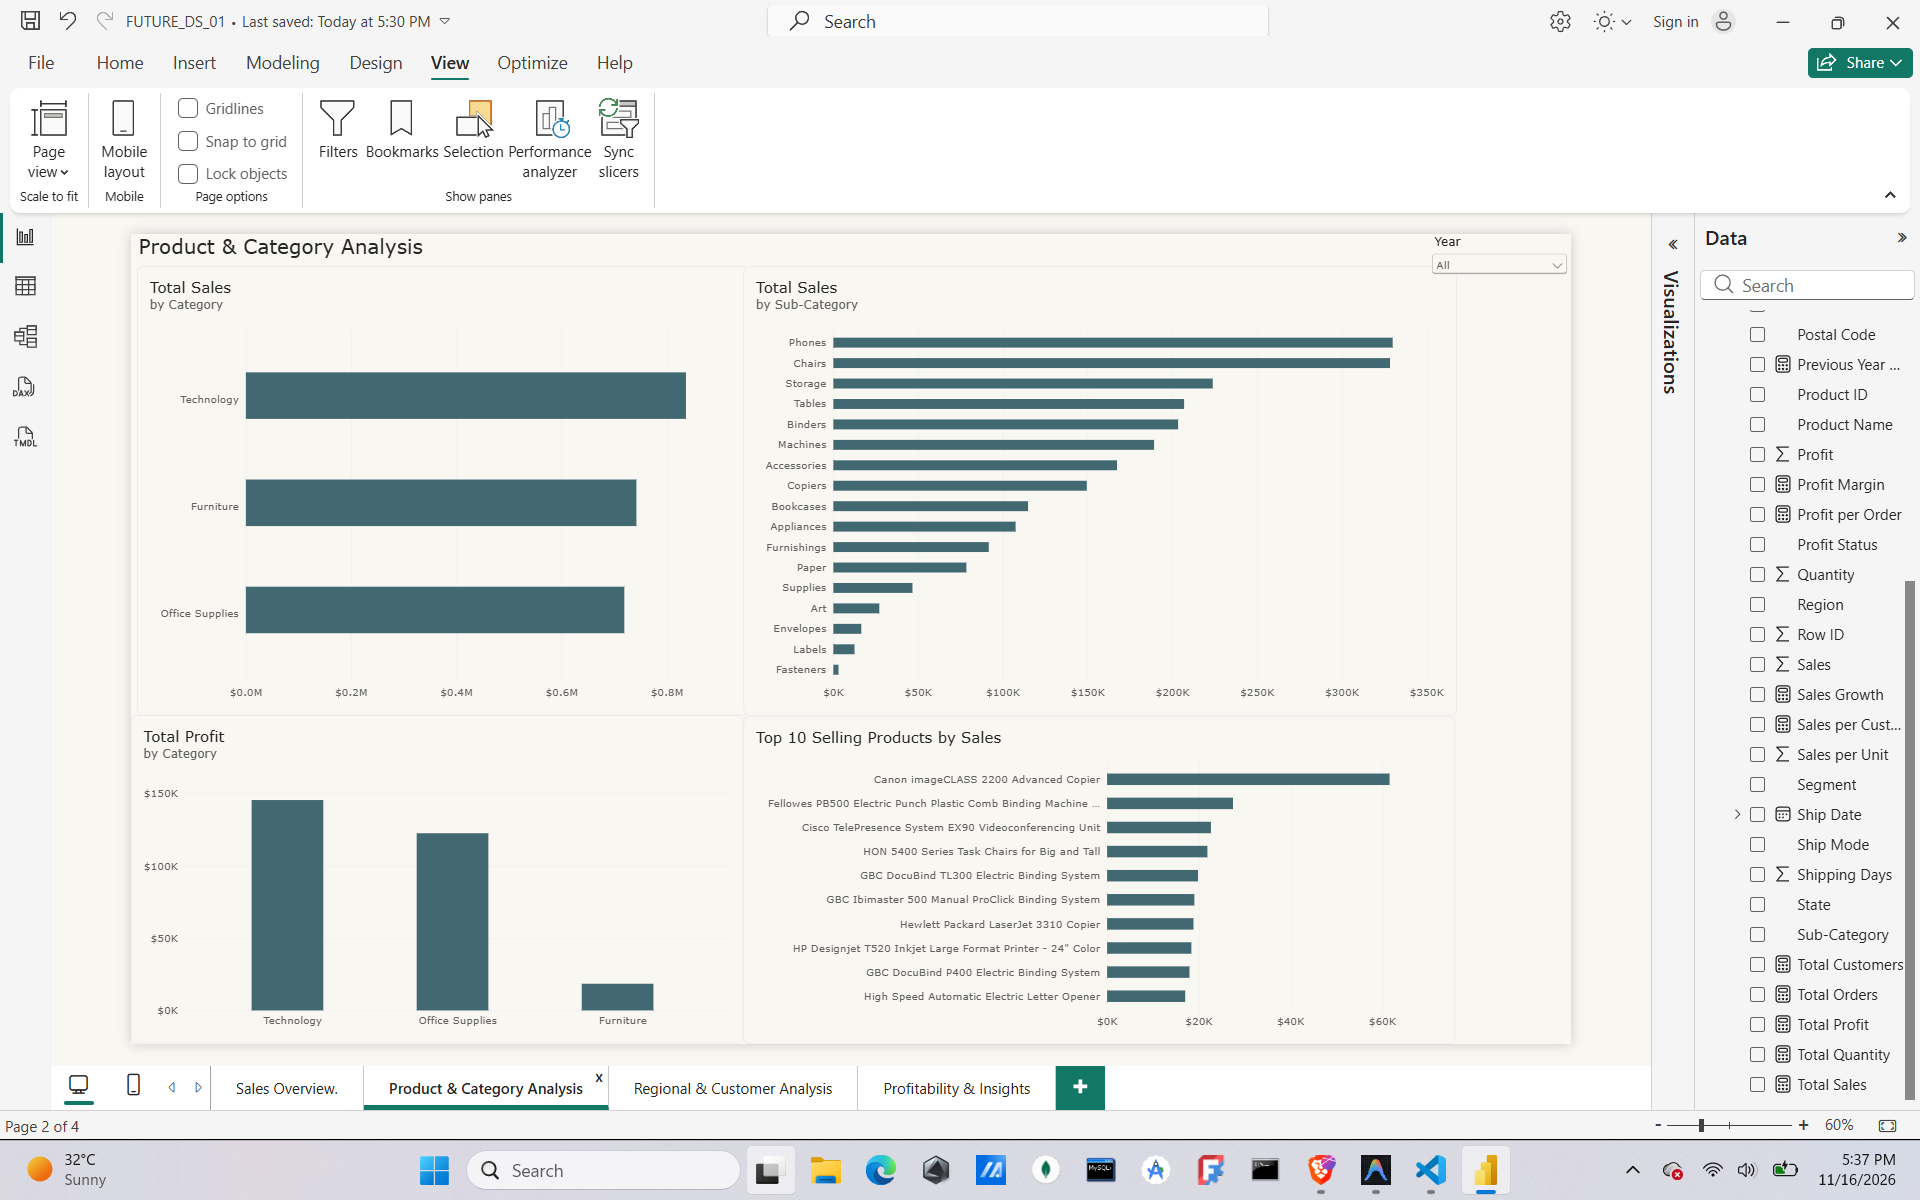

What the dashboard file says about the page in this screenshot:
{"tool":"powerbi","page":{"name":"Product & Category Analysis","canvas":[1920,1080],"ordinal":1},"visuals":[{"type":"textbox","box":[9.3,0,1757.3,63],"z":0},{"type":"clusteredBarChart","fields":{"Category":["DATA.Category"],"Y":["DATA.Total Sales"]},"box":[8.7,43.6,815.6,598.7],"z":1000},{"type":"clusteredBarChart","fields":{"Category":["DATA.Sub-Category"],"Y":["DATA.Total Sales"]},"box":[816.3,43.6,950.9,598.7],"z":2000},{"type":"clusteredColumnChart","fields":{"Category":["DATA.Category"],"Y":["DATA.Total Profit"]},"box":[0,641.9,816.3,437.8],"z":3000},{"type":"slicer","fields":{"Values":["CALENDAR.Year"]},"box":[1730,0,190,1080],"z":4000},{"type":"clusteredBarChart","title":"Top 10 Selling Products by Sales","fields":{"Category":["DATA.Product Name"],"Y":["DATA.Total Sales"]},"box":[816,643,949,437],"z":4001}]}

Visuals, with their boxes on the page's 1920x1080 design canvas (x1, y1, x2, y2). These are canvas units, not pixel positions in the 1920x1200 screenshot, which may show the page scaled, cropped or inside an application window:
textbox: [x1=9, y1=0, x2=1767, y2=63]
clusteredBarChart - DATA.Category x DATA.Total Sales: [x1=9, y1=44, x2=824, y2=642]
clusteredBarChart - DATA.Sub-Category x DATA.Total Sales: [x1=816, y1=44, x2=1767, y2=642]
clusteredColumnChart - DATA.Category x DATA.Total Profit: [x1=0, y1=642, x2=816, y2=1080]
slicer - CALENDAR.Year: [x1=1730, y1=0, x2=1920, y2=1080]
"Top 10 Selling Products by Sales" clusteredBarChart: [x1=816, y1=643, x2=1765, y2=1080]
